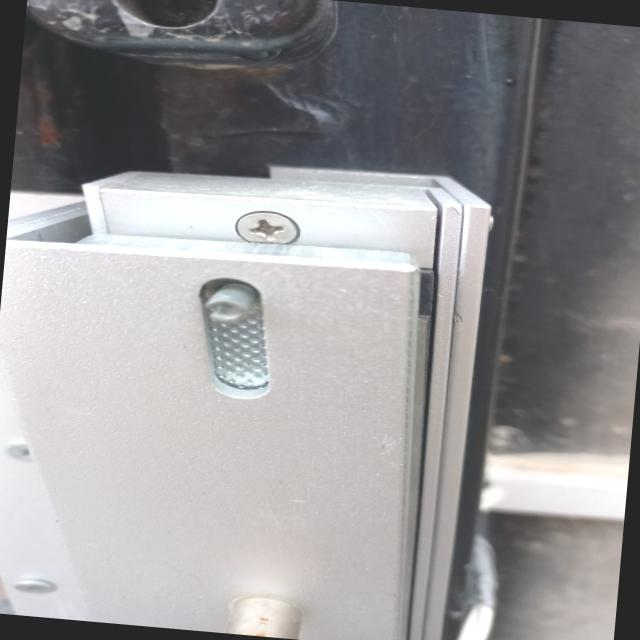Phillips: (232, 210, 306, 255)
